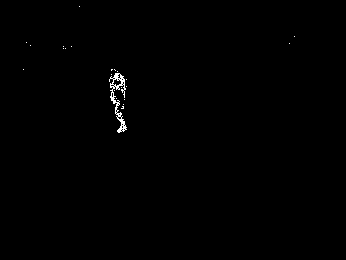person: (104, 65, 131, 132)
